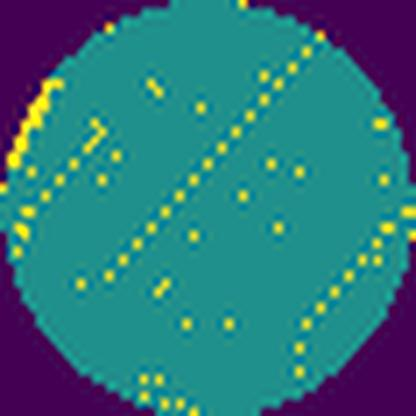Edge-Loc: (3, 74, 64, 180)
